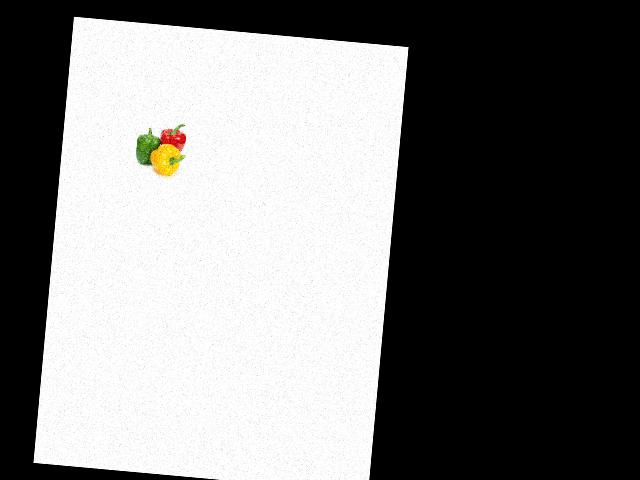bell_pepper: (154, 118, 191, 156)
